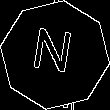N_S: (31, 27, 79, 83)
